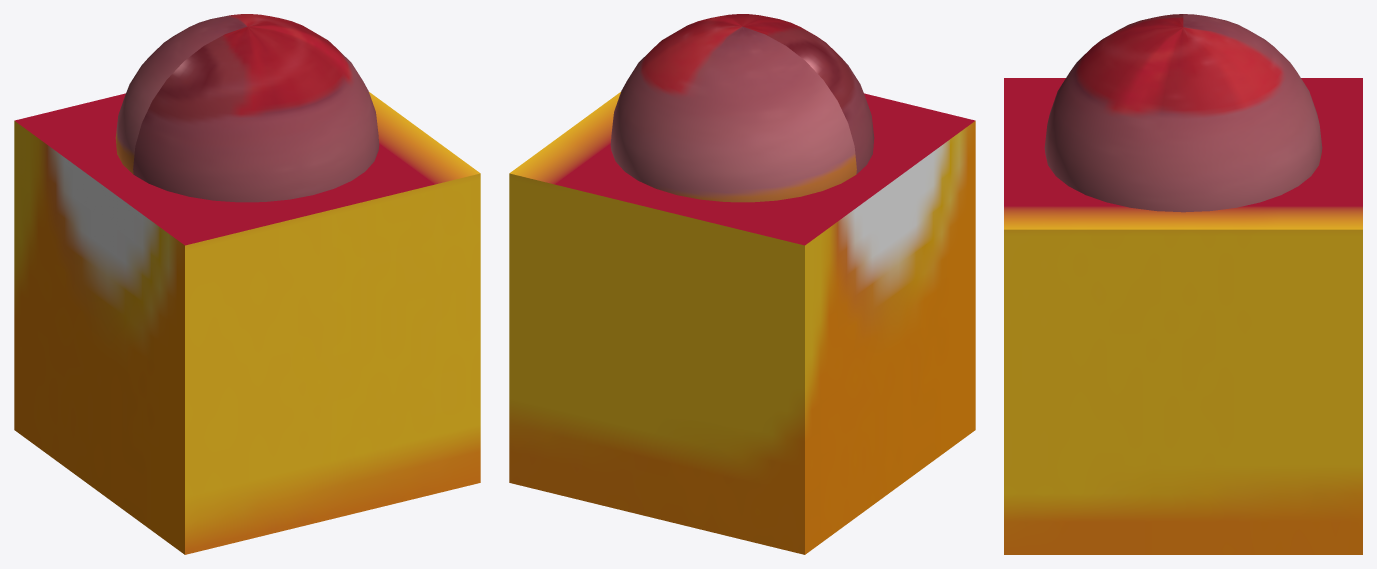
File: Red Button.fbx
The picture shows the model from 3 angles, left to right: view 1: azimuth 30°, elevation 25°; view 2: azimuth 150°, elevation 25°; view 3: azimuth 270°, elevation 25°; orthographic projection. The views are drawn at different scales.
Visible parts, largest first — view 1: Cube.026; view 2: Cube.026; view 3: Cube.026.
Part boxes in pixels (x1,y1,x2,y2): Cube.026: (14, 14, 480, 554); Cube.026: (509, 14, 975, 554); Cube.026: (1004, 14, 1362, 554).
Size of the model in its own units: 44.14 by 61.33 by 44.14.
